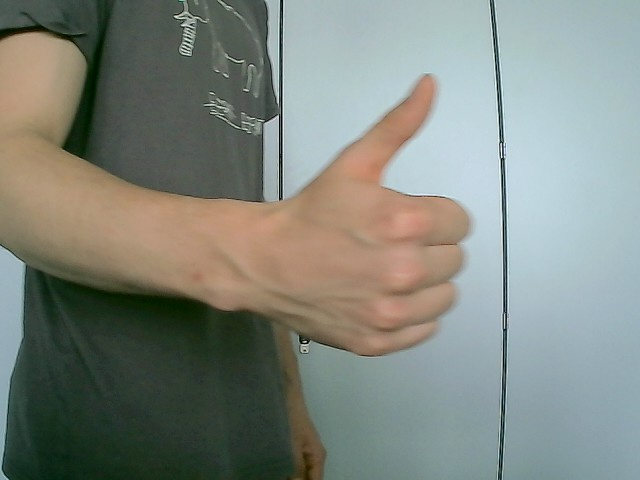up: (248, 71, 473, 358)
